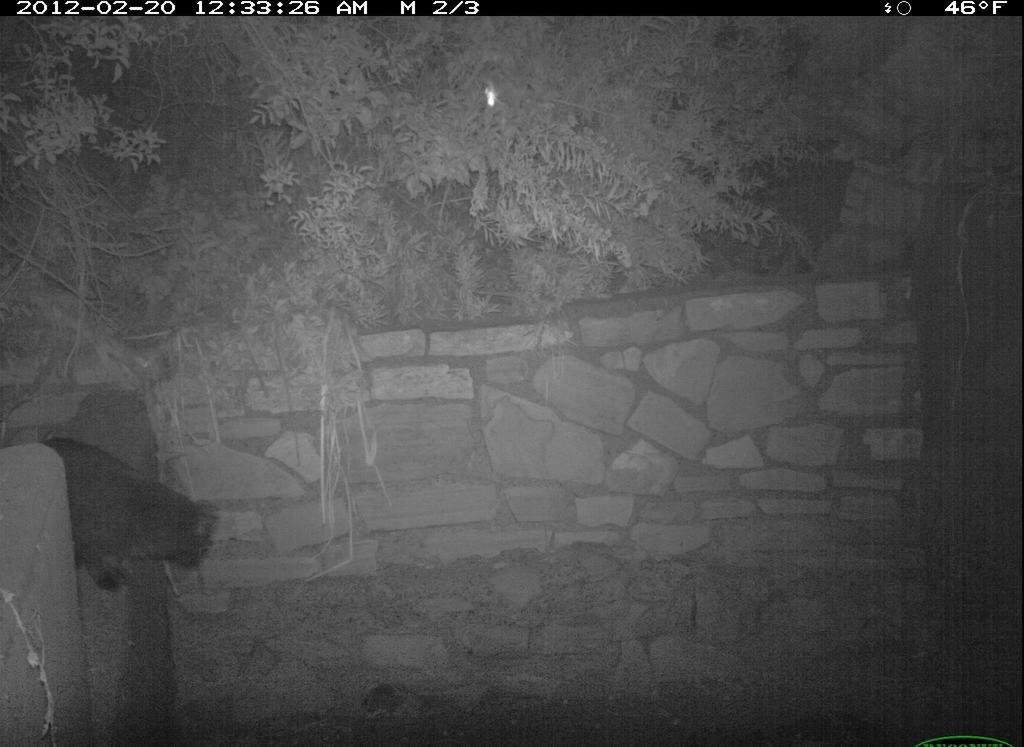cat: (6, 431, 223, 597)
